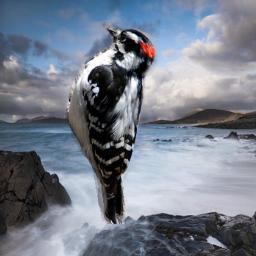Woodpecker: (64, 22, 159, 224)
